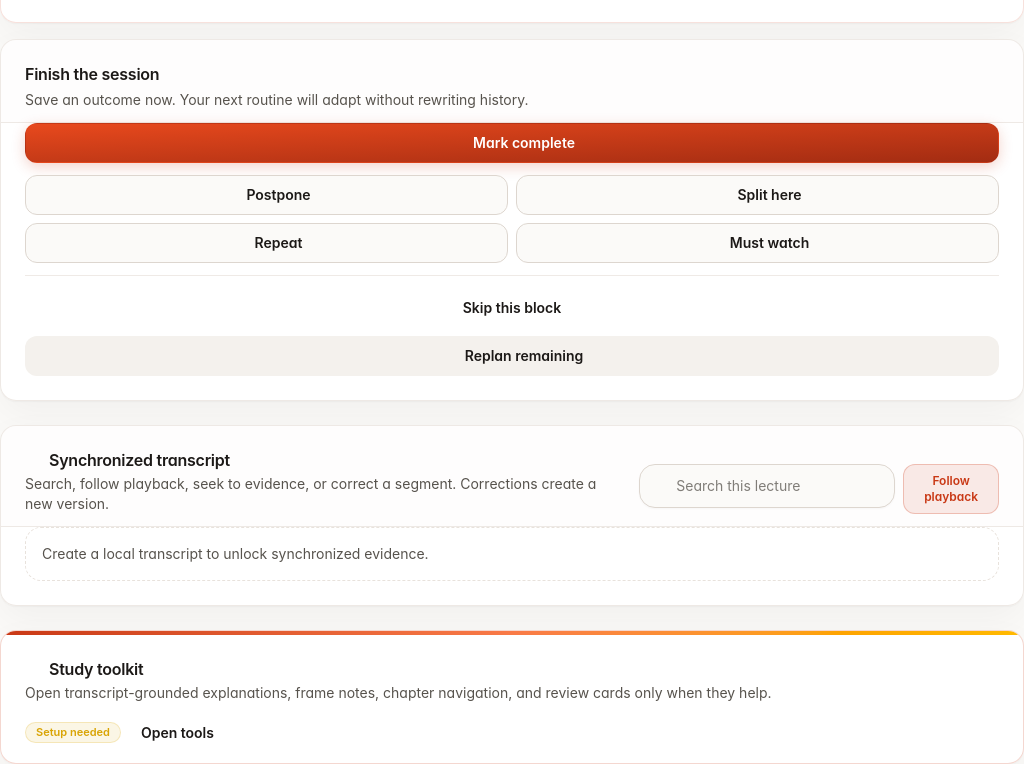
Test: PlayerRoute › unlocks grounded actions as soon as local transcription completes
The image size is (1024, 764).
(page scrolled)
Click the button "Open tools": (189, 733) [129,715,250,751]
(page scrolled)
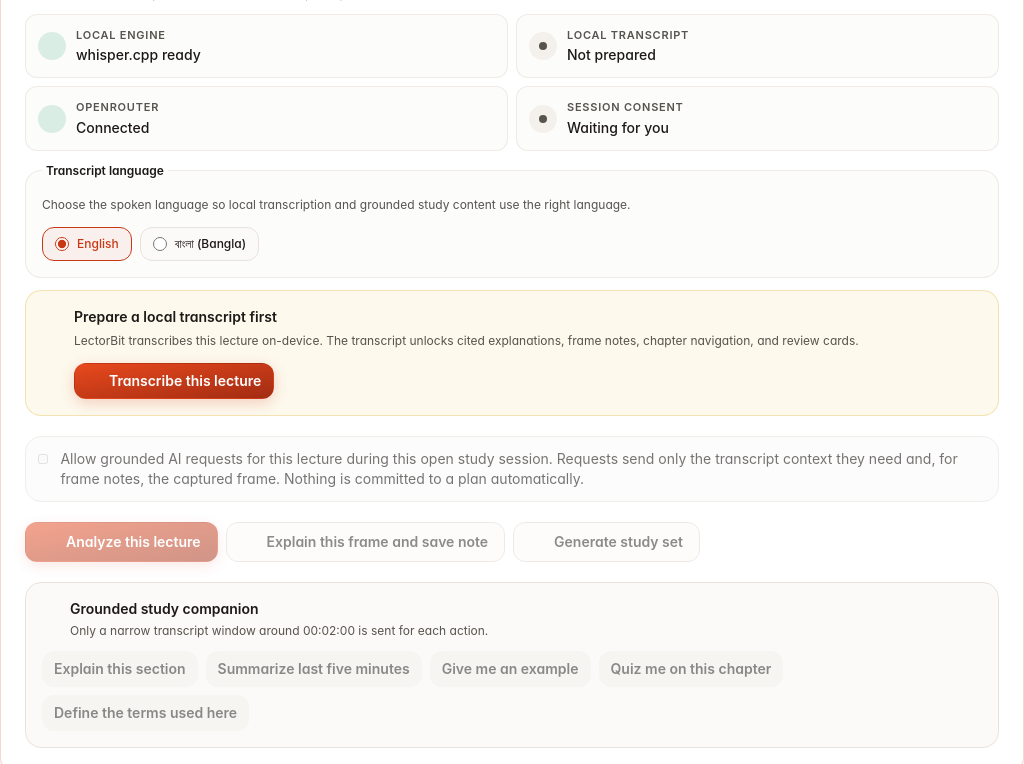
Click the button "Transcribe this lecture": (174, 381) [74,363,274,399]
(page scrolled)
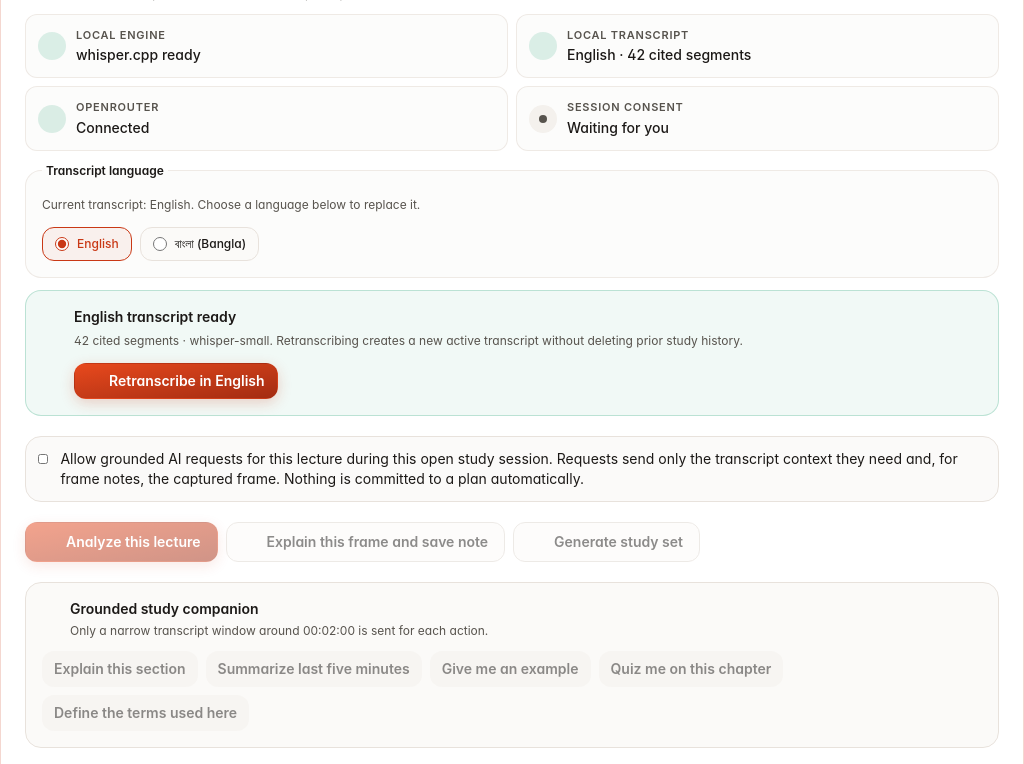
Check: the button "Analyze this lecture" is disabled, box [25,522,218,562]
Check: the checkbox is enabled
Click the checkbox: (43, 459) [38,451,48,467]
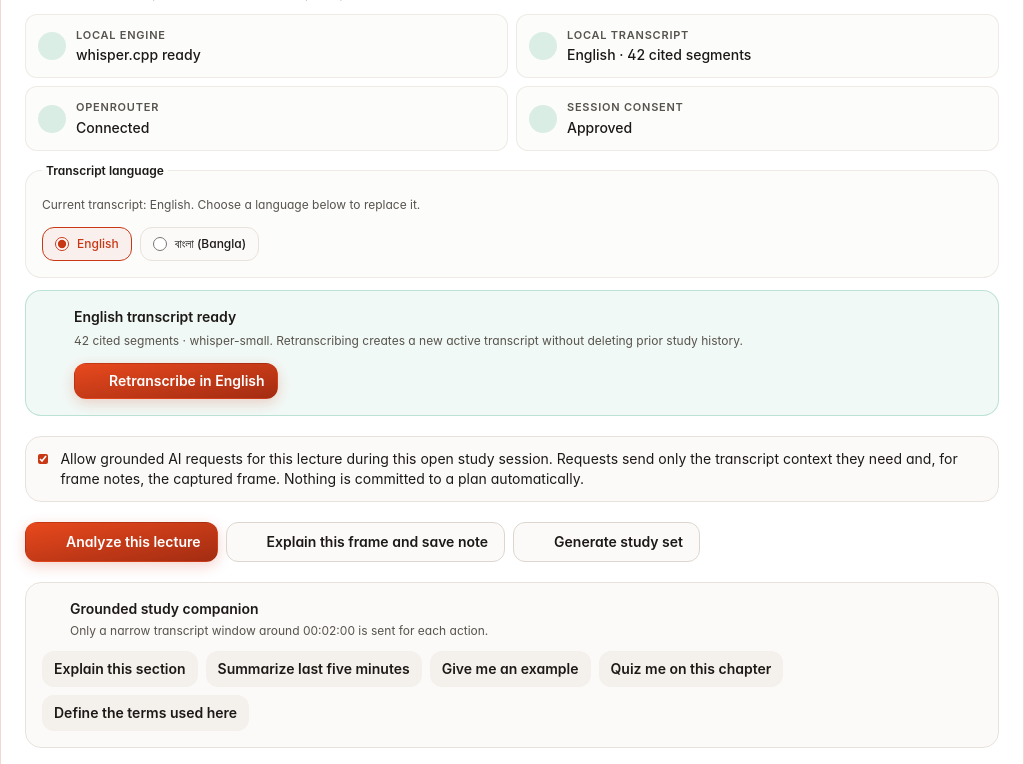
Check: the button "Analyze this lecture" is enabled, box [25,522,218,562]
